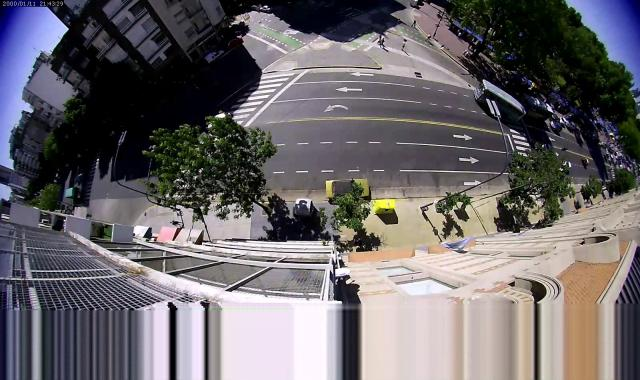bus: (474, 80, 526, 122), (521, 94, 554, 121)
car: (326, 178, 370, 198), (204, 50, 225, 64), (226, 37, 242, 49), (550, 121, 562, 133), (259, 6, 274, 12), (566, 121, 576, 130), (551, 114, 560, 121), (543, 143, 552, 150), (559, 117, 566, 125), (582, 158, 589, 165), (604, 154, 609, 160), (610, 154, 615, 158), (609, 159, 613, 164), (620, 164, 625, 168), (614, 161, 618, 165), (615, 156, 619, 158)
